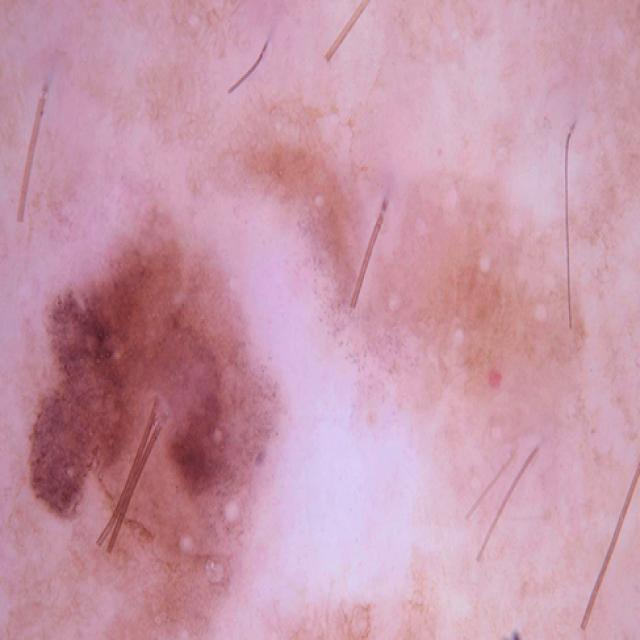Keratosis: (18, 218, 366, 623)
